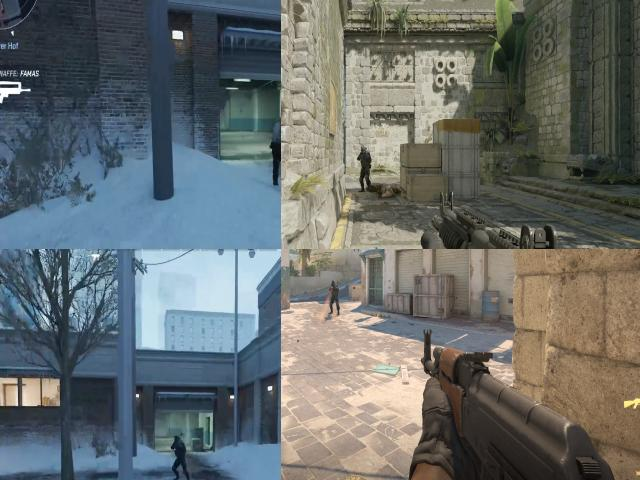CT: (356, 139, 375, 194), (365, 179, 408, 202), (171, 432, 187, 469), (330, 280, 340, 309)
CT-Head: (358, 142, 369, 154), (174, 434, 182, 447), (332, 282, 337, 287)
T: (271, 115, 281, 153)
T-Head: (277, 106, 281, 123)
